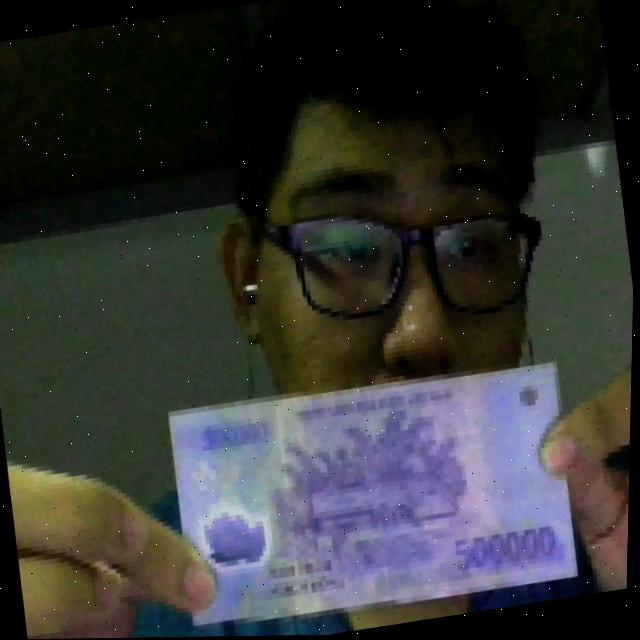500 000 VND: (157, 343, 593, 638)
